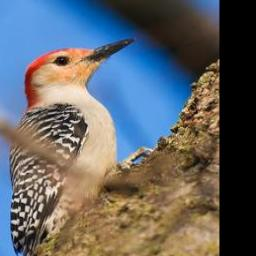Woodpecker: (9, 35, 136, 256)
